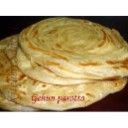parota: (16, 21, 127, 82)
